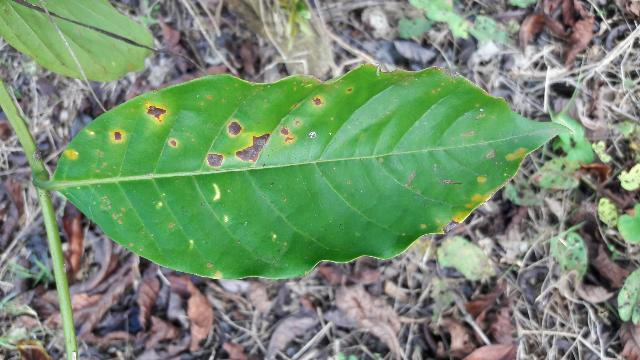rust_level_2: (44, 63, 571, 282)
